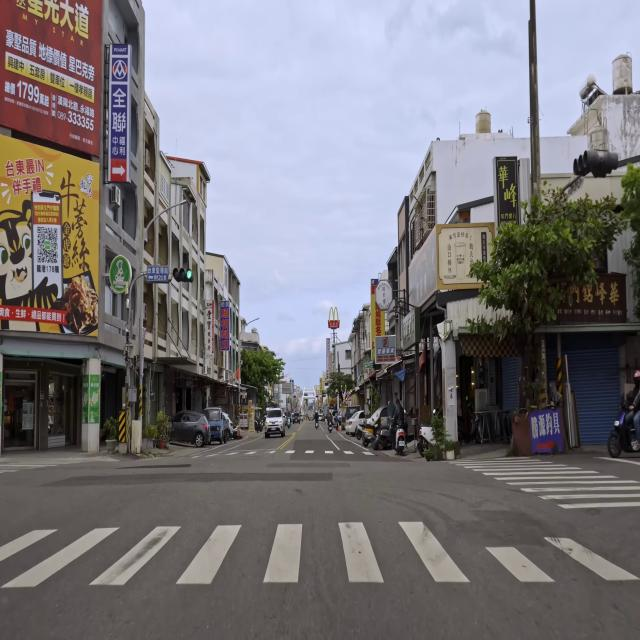green light: (172, 268, 194, 284)
